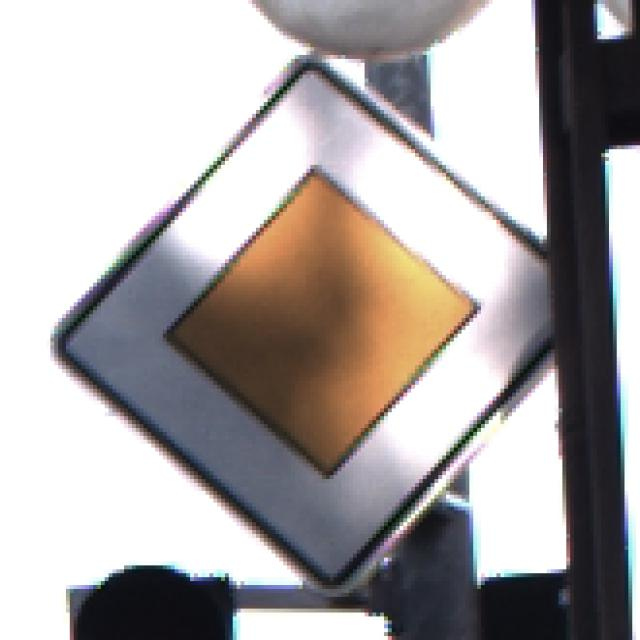Main Road: (55, 56, 587, 586)
